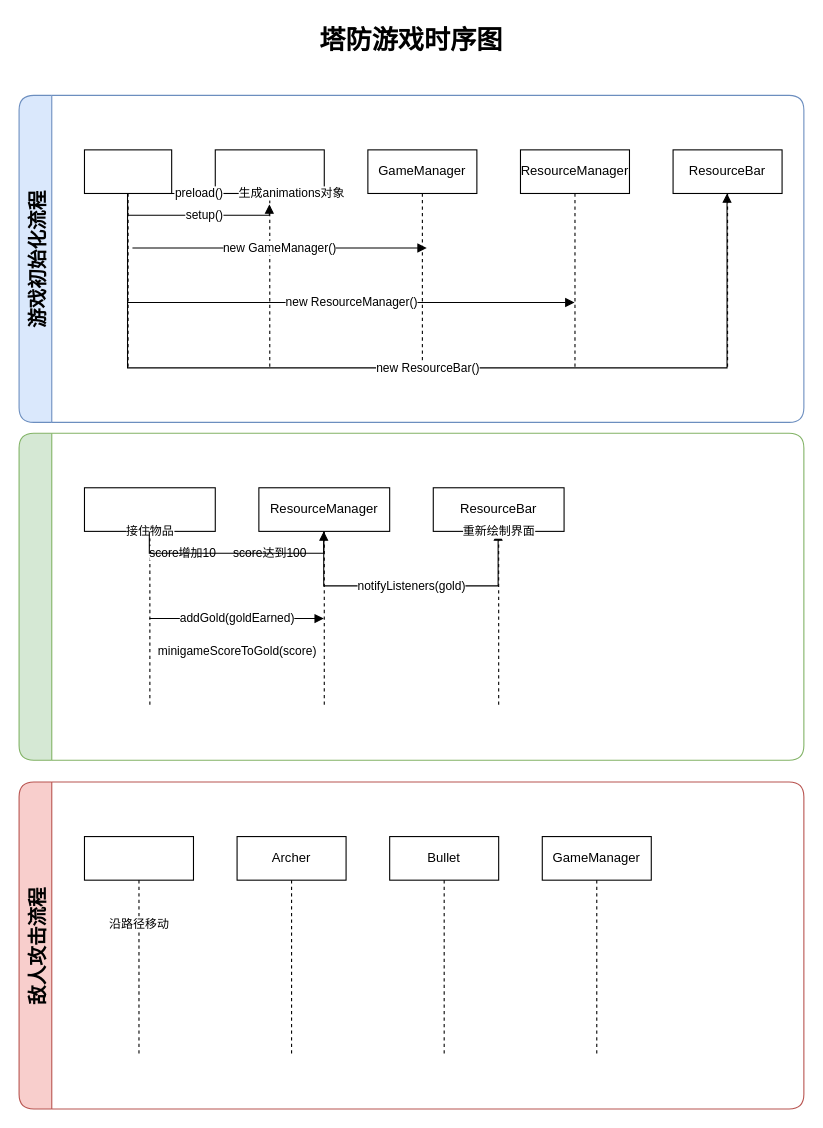
The diagram is 823 pixels wide and 1128 high, and some of its shapes have lost their labels. The shapes that lost their labels are listed below. From the top down, each one's box as (x1, y1, x2, y2) in pixels, then its label:
(83, 149, 172, 368): sketch.js
(214, 149, 324, 368): AssetManager
(83, 487, 215, 706): MinigameManager
(18, 432, 804, 760): 小游戏得分转换流程
(83, 835, 193, 1055): Enemy
